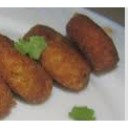cutlet: (19, 23, 93, 91), (68, 12, 126, 72), (2, 32, 51, 103)
